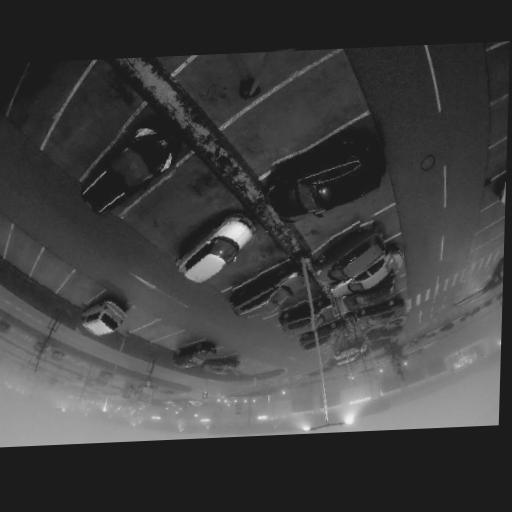busy: (71, 126, 179, 221), (264, 147, 383, 230), (173, 213, 259, 285), (311, 228, 388, 286), (231, 267, 308, 316), (328, 257, 401, 296), (76, 296, 132, 340), (357, 299, 410, 330), (340, 280, 397, 307), (278, 304, 321, 333), (176, 342, 218, 368), (204, 353, 243, 376)
free: (259, 97, 322, 144), (221, 49, 298, 82), (16, 73, 66, 118), (155, 188, 206, 230), (64, 102, 110, 145), (316, 203, 360, 235), (222, 257, 260, 281), (35, 261, 68, 285), (68, 282, 96, 305), (9, 243, 37, 265), (266, 294, 293, 314), (236, 355, 254, 375), (152, 318, 171, 335), (126, 312, 145, 326), (173, 333, 191, 346)
